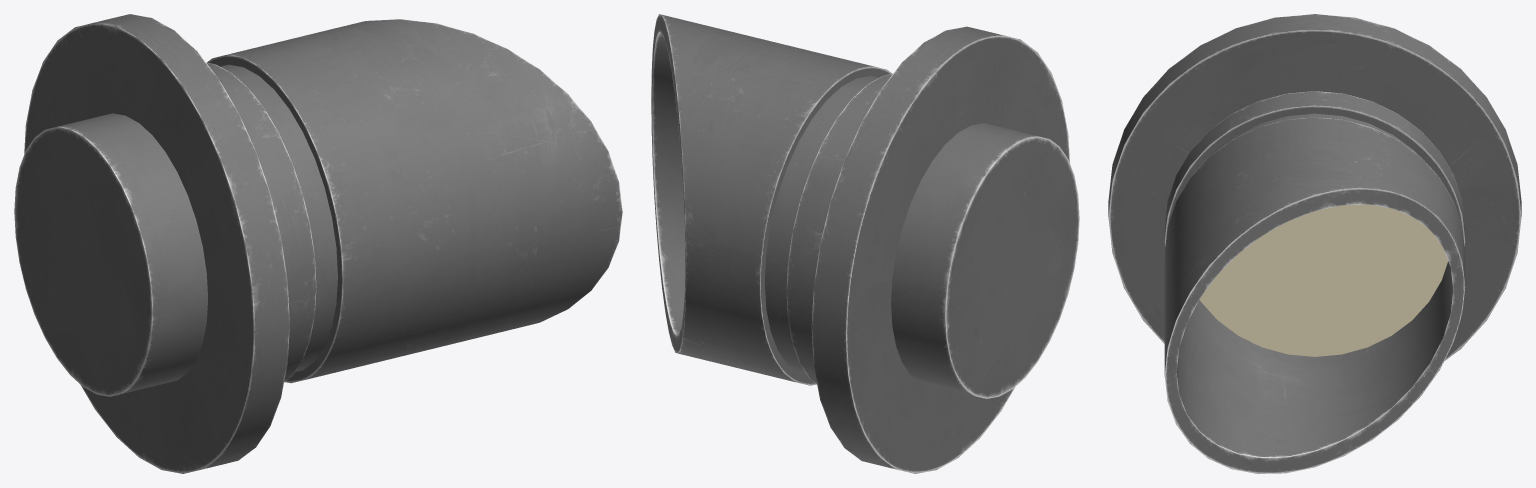
Rendered from guard_4_c_a.glb.
3 renders of one model, left to right at view 1: azimuth 30°, elevation 25°; view 2: azimuth 150°, elevation 25°; view 3: azimuth 270°, elevation 25°, orthographic. The views are drawn at different scales.
Parts seen in each view (by area): view 1: guard_4_c_a_lod0; view 2: guard_4_c_a_lod0; view 3: guard_4_c_a_lod0.
Part boxes in pixels (x1=…): guard_4_c_a_lod0: x1=14, y1=14, x2=622, y2=473; guard_4_c_a_lod0: x1=651, y1=14, x2=1079, y2=473; guard_4_c_a_lod0: x1=1108, y1=14, x2=1521, y2=473.
Size of what is drawn, in the model's own units: 0.0475 by 0.0417 by 0.0417.
Materials: 1 (1 with a texture image).
